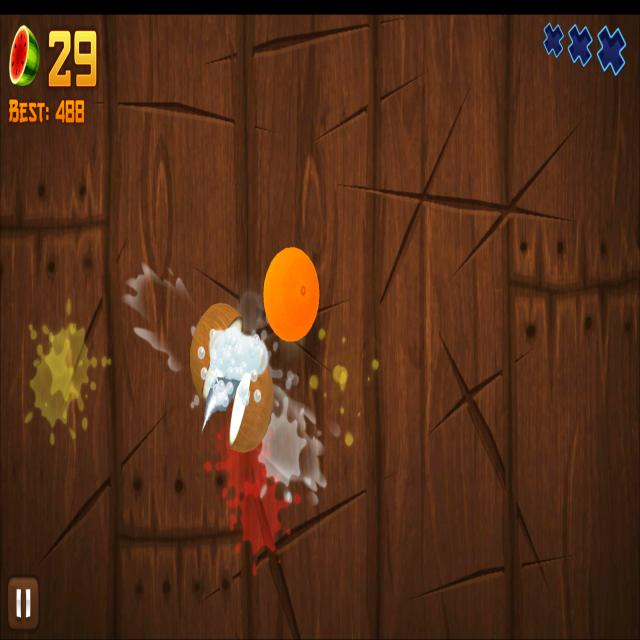fruit: (264, 245, 319, 342)
